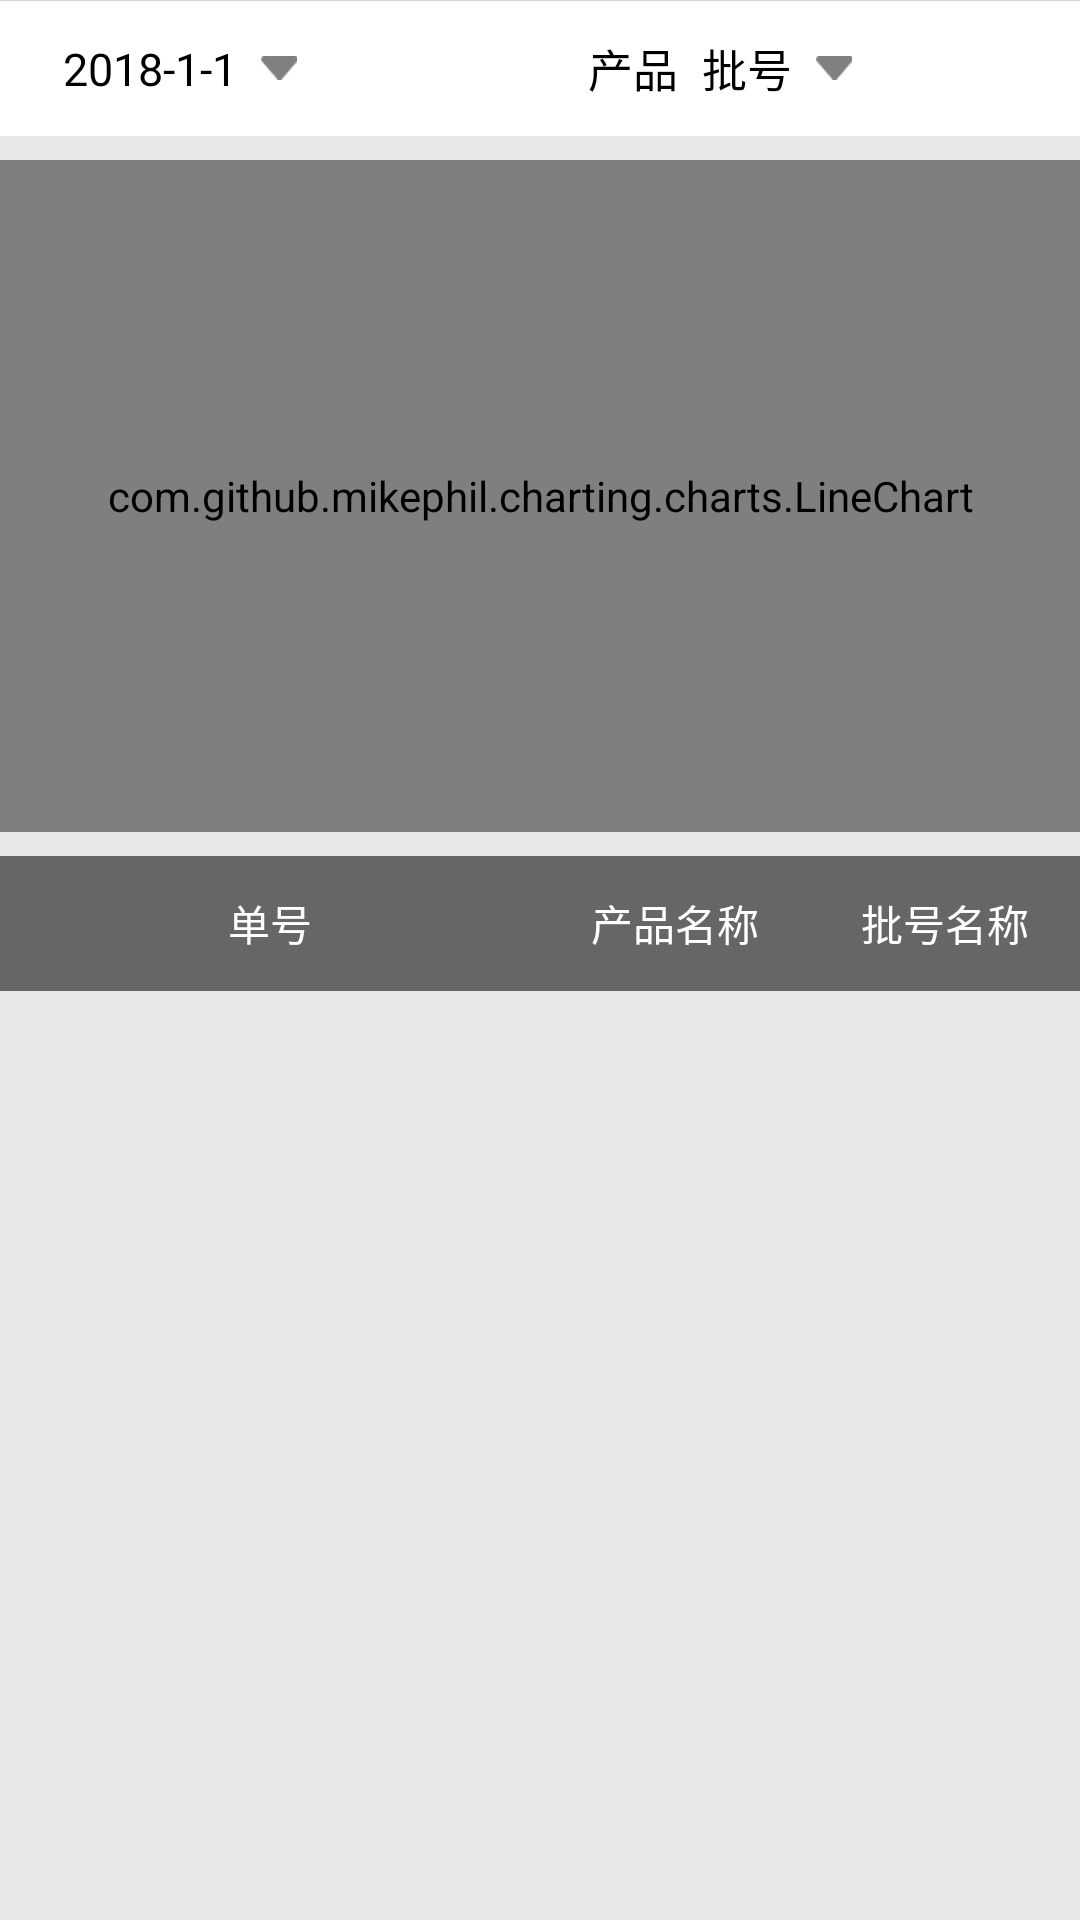

Icon bounding boxes for this 1080×1920 phone screenshot, format (x1, y1, x2, y2):
pull down: (261, 56, 297, 80), (816, 56, 852, 80)
